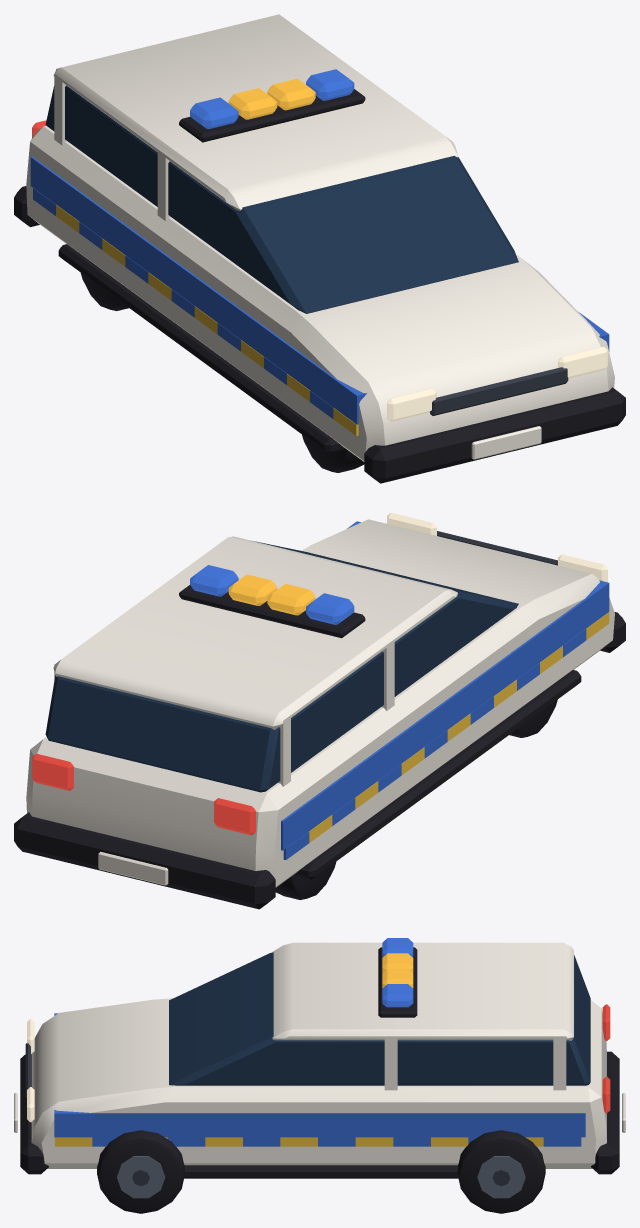
The model's file is civic_car.glb.
3 renders of one model, top to bottom at view 1: azimuth 30°, elevation 25°; view 2: azimuth 150°, elevation 25°; view 3: azimuth 270°, elevation 25°, orthographic. The views are drawn at different scales.
Visible parts, largest first — view 1: civic_car; view 2: civic_car; view 3: civic_car.
Part boxes in pixels (<box>): civic_car: <box>14,14,625,483</box>; civic_car: <box>14,512,625,909</box>; civic_car: <box>14,938,625,1213</box>.
Bounding box in the file's own units: 1.99 × 1.65 × 4.72.
3 materials, 3 textured.
